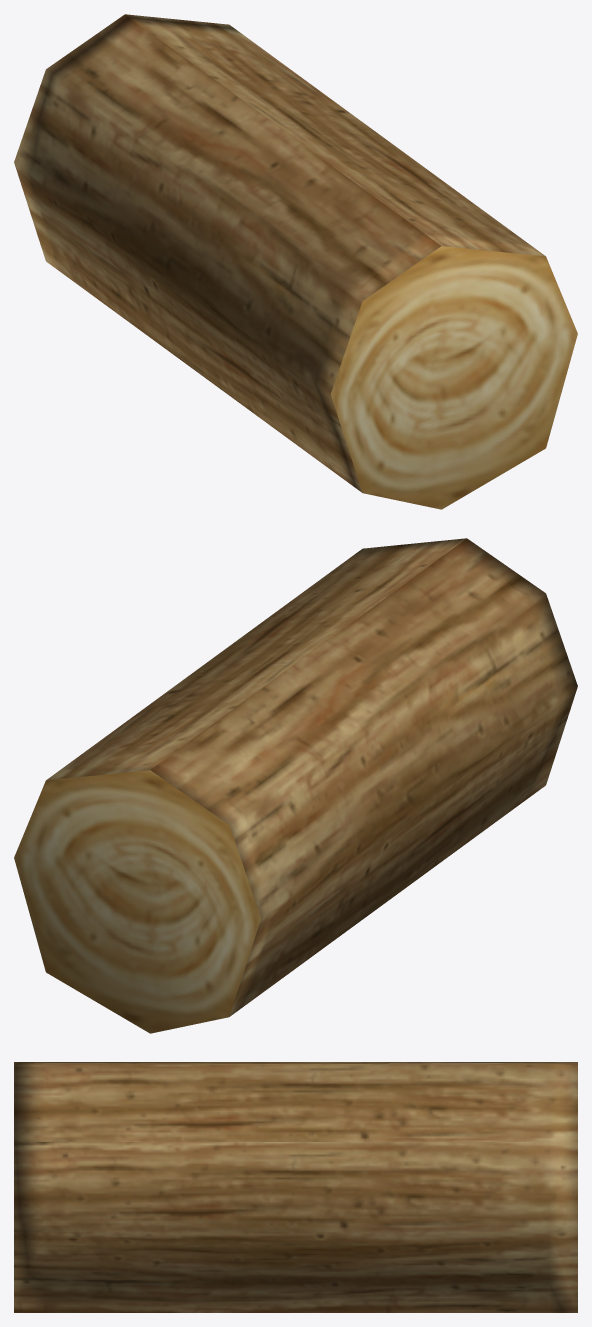
The model's file is tronquinho.fbx.
3 renders of one model, top to bottom at view 1: azimuth 30°, elevation 25°; view 2: azimuth 150°, elevation 25°; view 3: azimuth 270°, elevation 25°, orthographic. The views are drawn at different scales.
Visible parts, largest first — view 1: pCube1; view 2: pCube1; view 3: pCube1.
Part boxes in pixels (box(x1,y1,x2,y2)): pCube1: box(14, 14, 577, 509); pCube1: box(14, 538, 577, 1033); pCube1: box(14, 1062, 577, 1312).
Size of the model in its own units: 8.31 by 8.47 by 18.43.
1 material, 1 textured.
